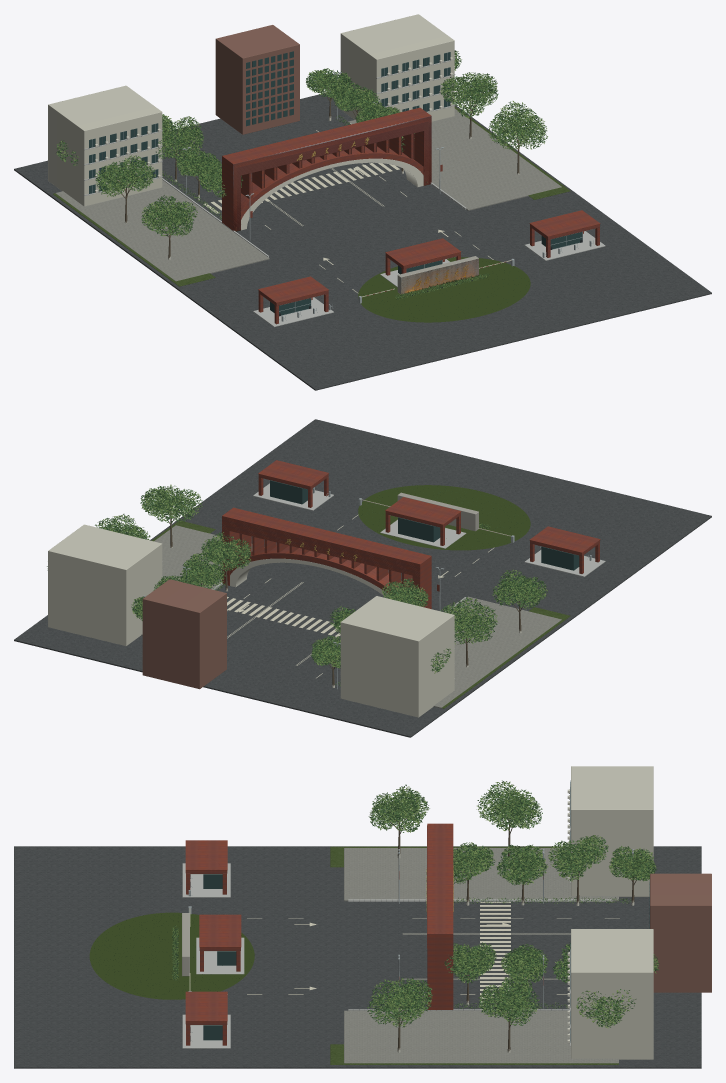
The model's file is xipu-west-gate.glb.
3 views of the same model, one above another, from view 1: azimuth 30°, elevation 25°; view 2: azimuth 150°, elevation 25°; view 3: azimuth 270°, elevation 25° (orthographic). The views are drawn at different scales.
Parts seen in each view (by area): view 1: Ground, Context, Landscape, Architecture, Pavilions; view 2: Ground, Context, Landscape, Architecture, Pavilions; view 3: Ground, Context, Landscape, Pavilions, Architecture.
Boxes of the visible parts, x1=… form: Ground: x1=14, y1=93, x2=711, y2=390; Context: x1=48, y1=14, x2=455, y2=206; Landscape: x1=56, y1=50, x2=547, y2=320; Architecture: x1=222, y1=107, x2=431, y2=231; Pavilions: x1=253, y1=210, x2=605, y2=327; Ground: x1=14, y1=419, x2=711, y2=737; Context: x1=48, y1=524, x2=455, y2=717; Landscape: x1=47, y1=484, x2=547, y2=689; Architecture: x1=222, y1=507, x2=431, y2=608; Pavilions: x1=253, y1=460, x2=605, y2=576; Ground: x1=14, y1=846, x2=701, y2=1068; Context: x1=567, y1=766, x2=711, y2=1059; Landscape: x1=94, y1=780, x2=659, y2=1052; Pavilions: x1=182, y1=840, x2=244, y2=1048; Architecture: x1=426, y1=823, x2=453, y2=1010.
Size of the model in its own units: 77.27 by 14.29 by 102.
23 materials, 6 textured.
